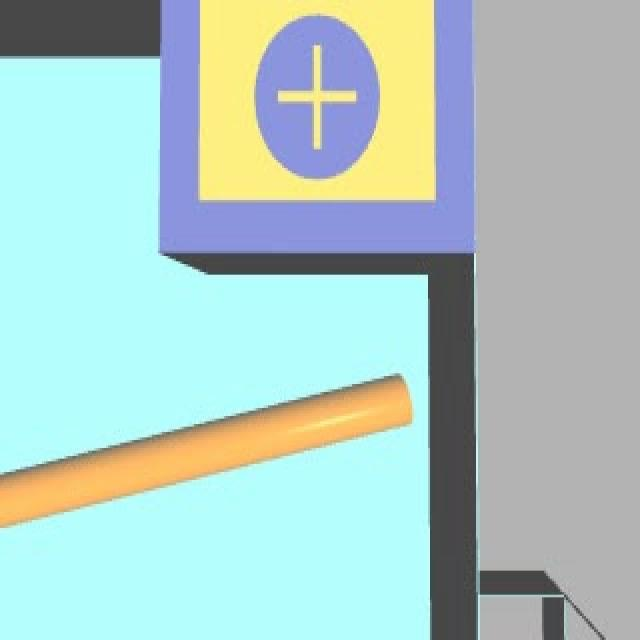Yellow-crosses: (272, 33, 363, 163)
